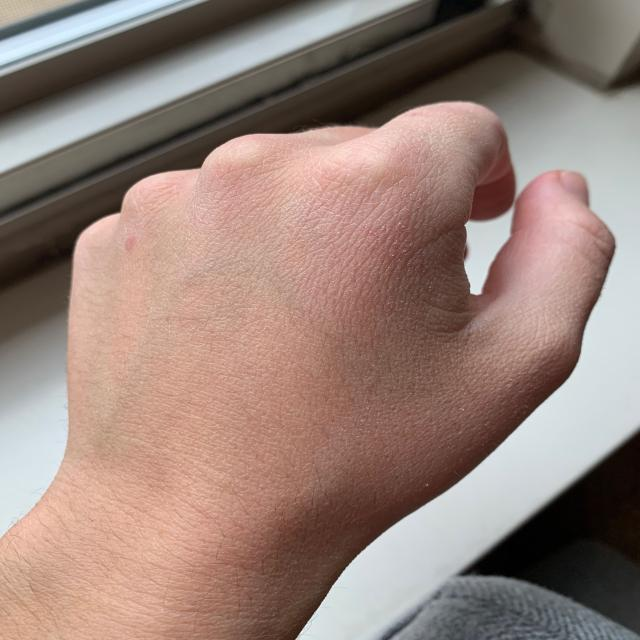Dry-Skin: (162, 132, 600, 402)
